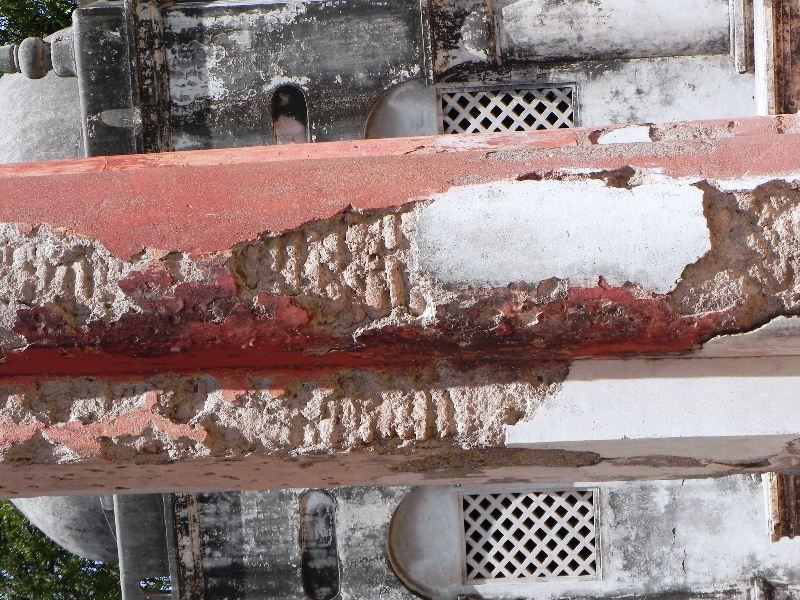Exposed Bricks: (231, 211, 426, 320)
Spalling: (1, 355, 599, 477), (653, 144, 798, 365), (5, 221, 193, 355)
